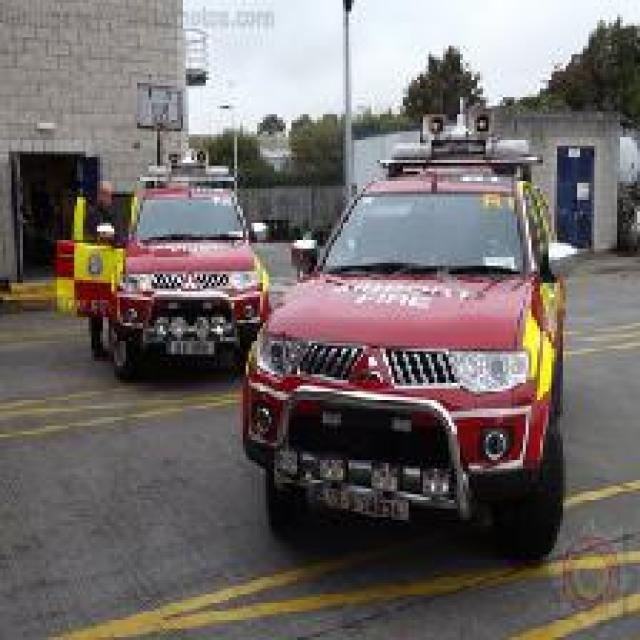emergency: (234, 105, 572, 562), (102, 146, 274, 384)
